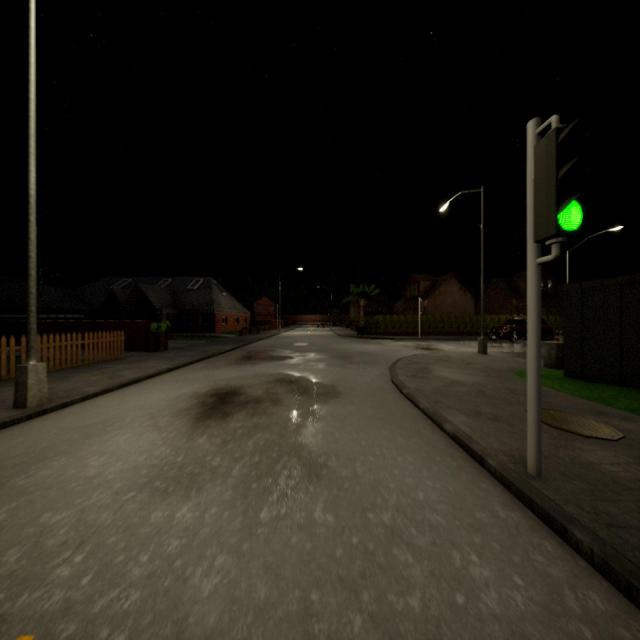Vehicle: (486, 317, 554, 344), (317, 318, 325, 328)
traffic_light: (533, 122, 583, 244), (420, 301, 424, 312), (328, 313, 329, 317)
